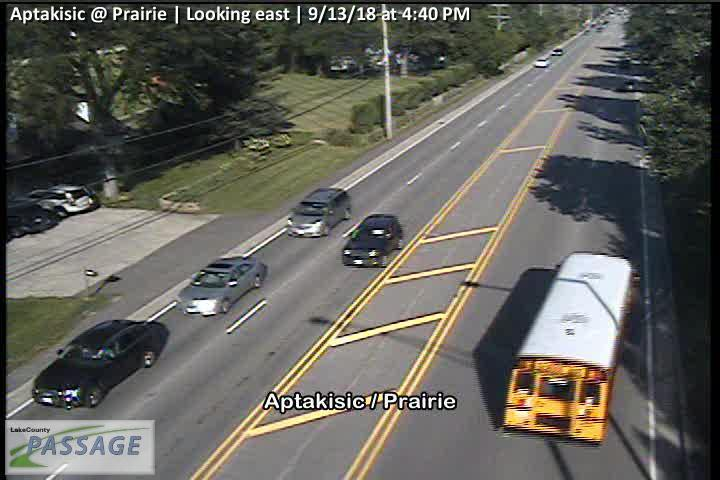Bus: (501, 252, 638, 444)
SUV: (286, 188, 352, 239), (20, 184, 96, 215), (535, 57, 551, 68)
Sedan: (31, 318, 169, 409), (176, 257, 268, 319), (341, 214, 404, 269), (552, 48, 563, 55)
